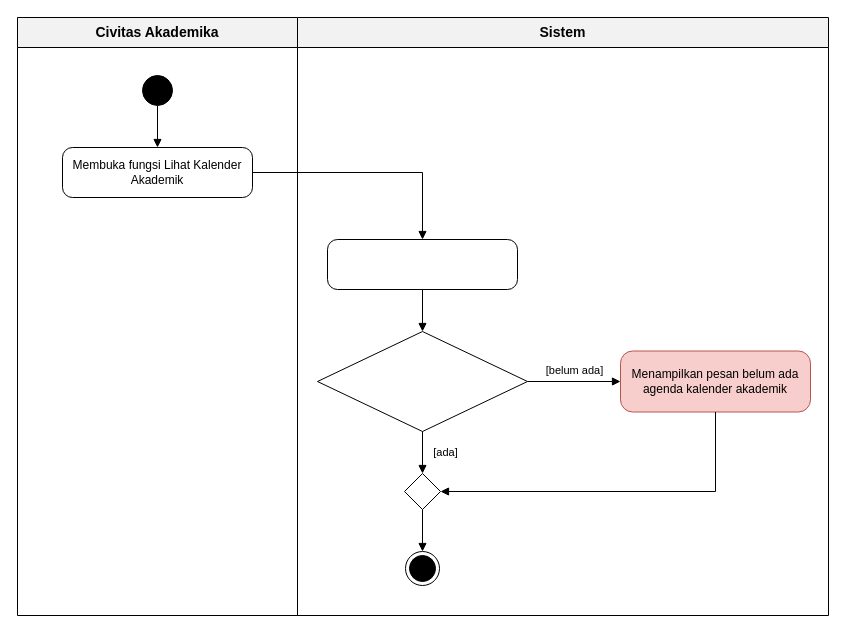
The diagram is 846 pixels wide and 633 high, and some of its shapes have lost their labels. Here are the shapes that lost their labels. From the top down, the centre of each, then its label:
At pixel 422 264: "Menampilkan daftar agenda kalender akademik".
At pixel 422 381: "Ada agenda kalender akademik?".
